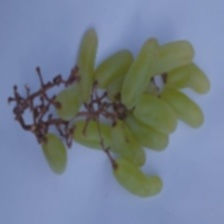grapes: (20, 63, 207, 198)
